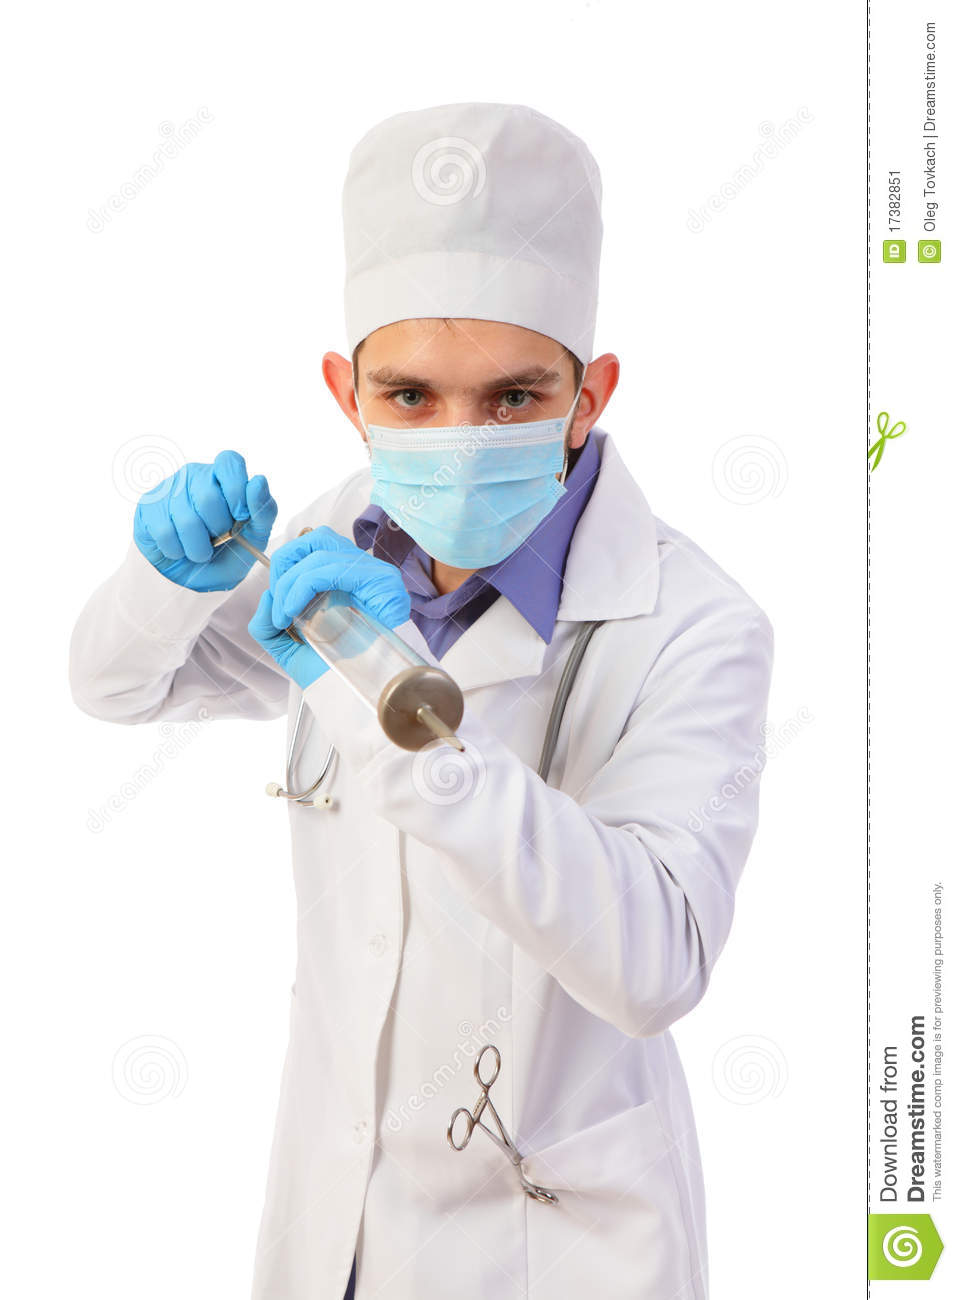mask: (340, 409, 580, 579)
